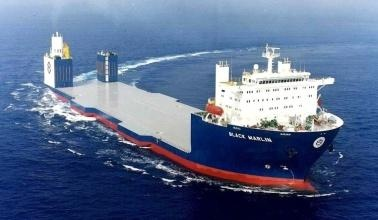Cargoship: (37, 24, 340, 195)
